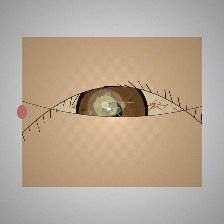corneal_ulcer: (86, 91, 125, 122)
